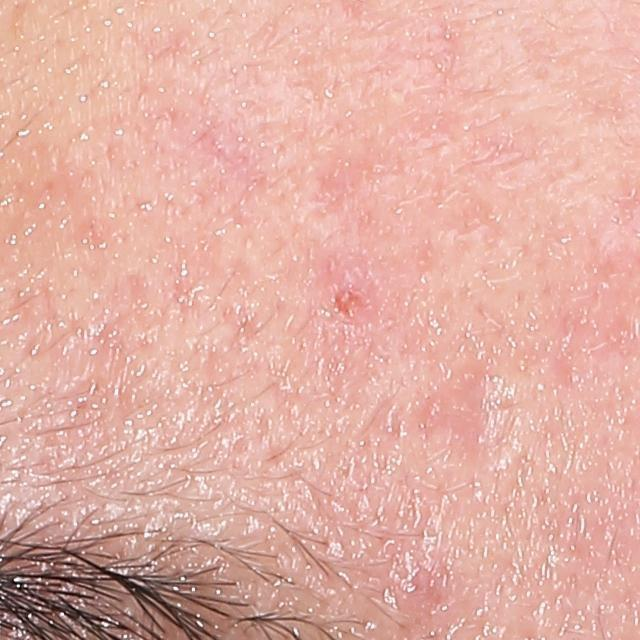papule: (335, 284, 367, 315)
